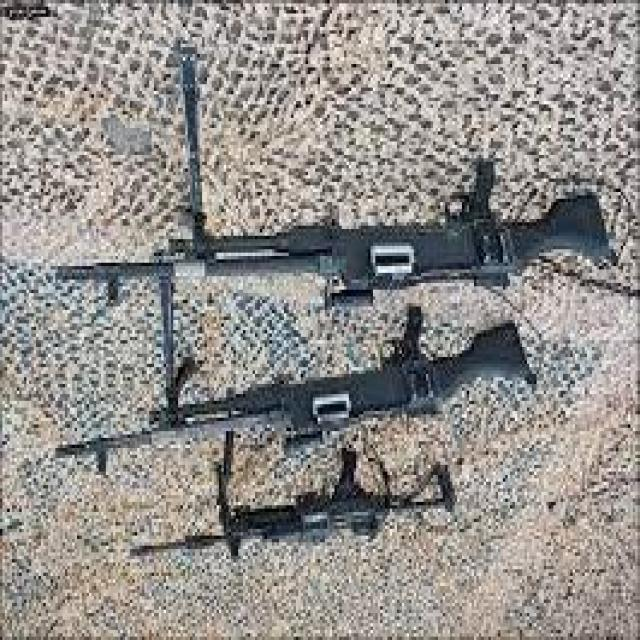weapon: (56, 52, 612, 311), (55, 303, 538, 480), (129, 460, 459, 563)
